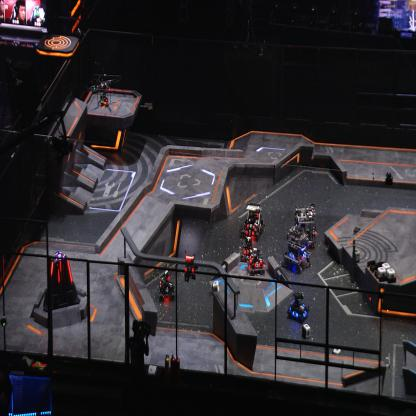car: (282, 224, 312, 271), (294, 202, 318, 251), (242, 200, 264, 240), (287, 291, 310, 323), (246, 246, 266, 278), (157, 270, 175, 302), (238, 235, 257, 264)
